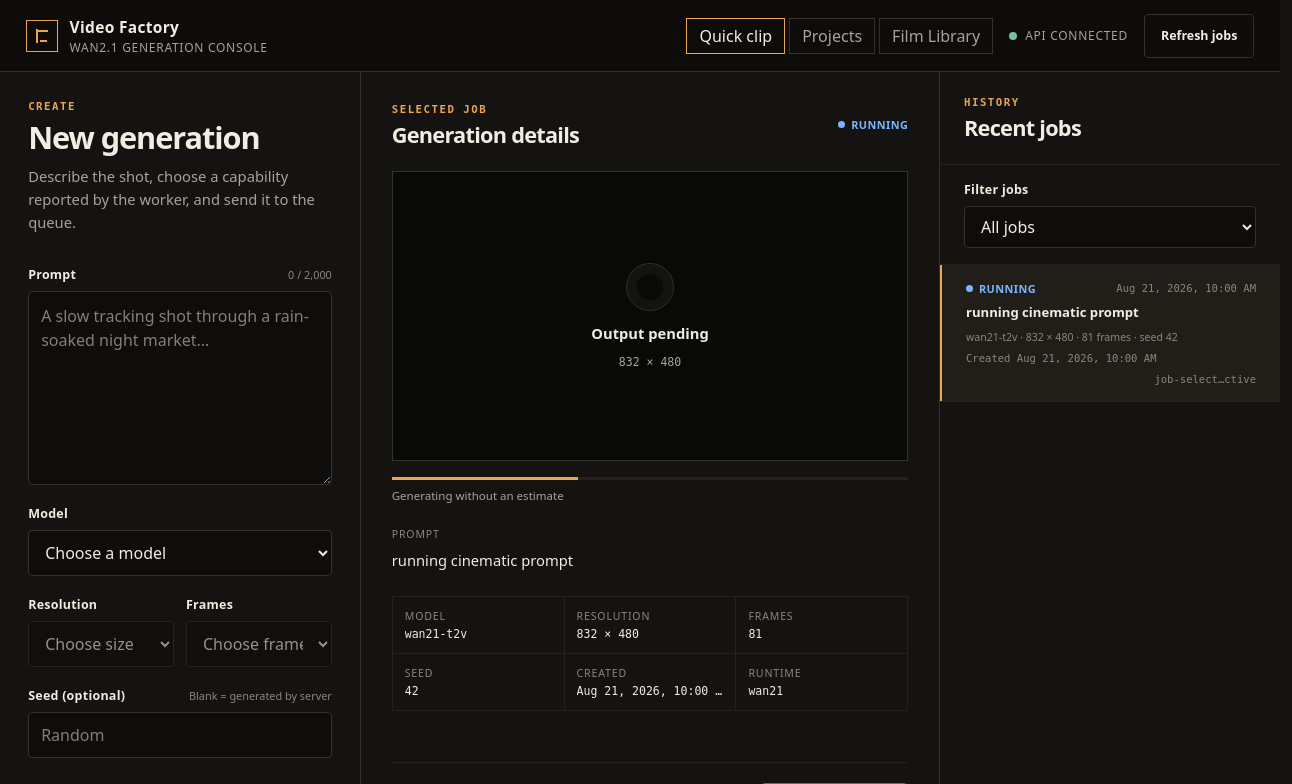
Test case: App › refreshes an active selected job outside the filtered page without overlapping polls
Expected: the progress indicator named "Generation progress" is shown, [392,477,908,503]
Select "Failed" in the dropdown labelled "Filter jobs". click: coordinates (1110, 227)
box: [964,206,1256,248]
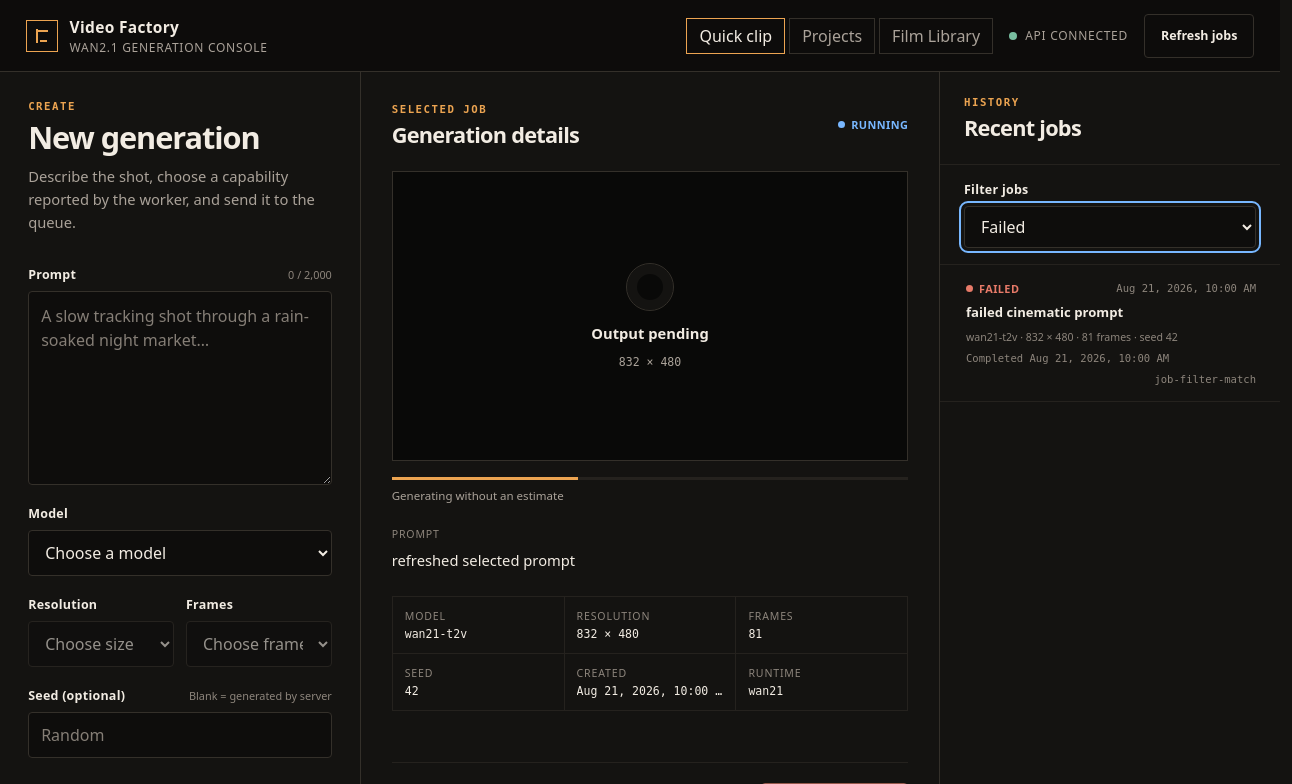
Now the text "refreshed selected prompt" is shown, box [392,550,575,570]
